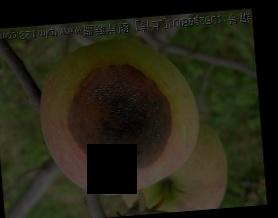rotten apple: (41, 36, 198, 194)
